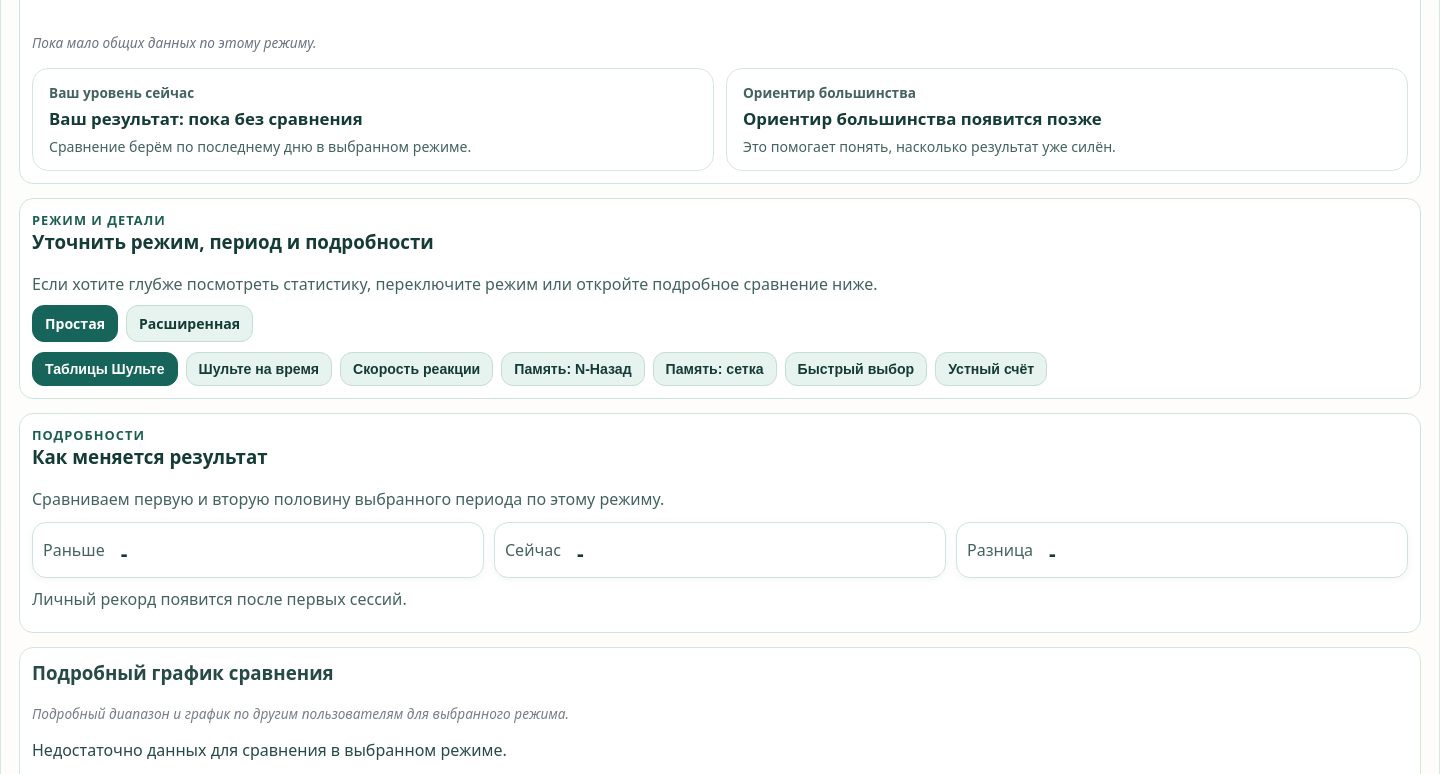
Test case: StatsPage sprint filters › renders reaction mode summary with reaction metrics
(page scrolled)
Step 1. Click the button with test id "stats-mode-reaction" → [417, 369], box [340,352,493,386]
(page scrolled)
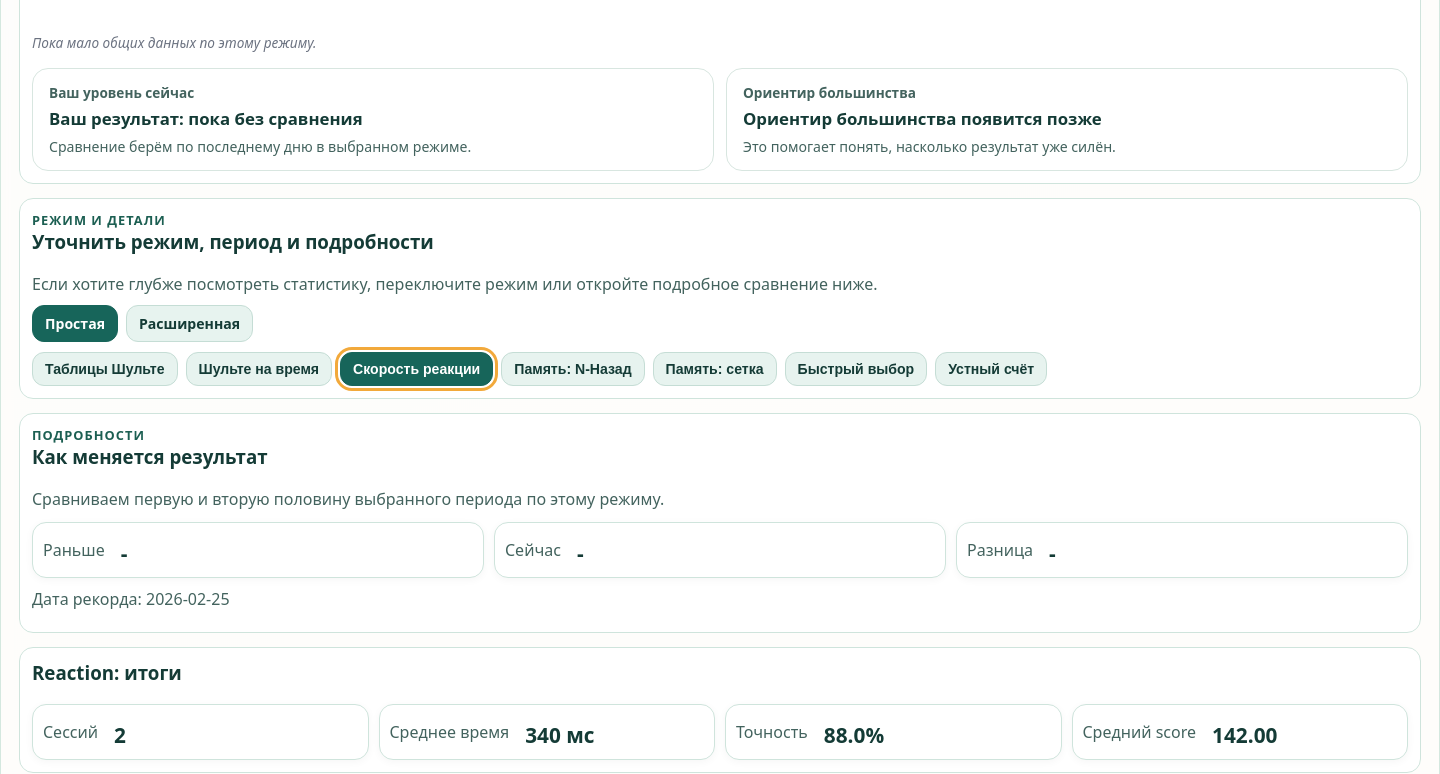
Expected: the heading "Reaction: итоги" is shown, [32,660,182,685]
Expected: the text "2" is shown, [114,721,126,749]
Expected: the text "340 мс" is shown, [525,721,594,749]
